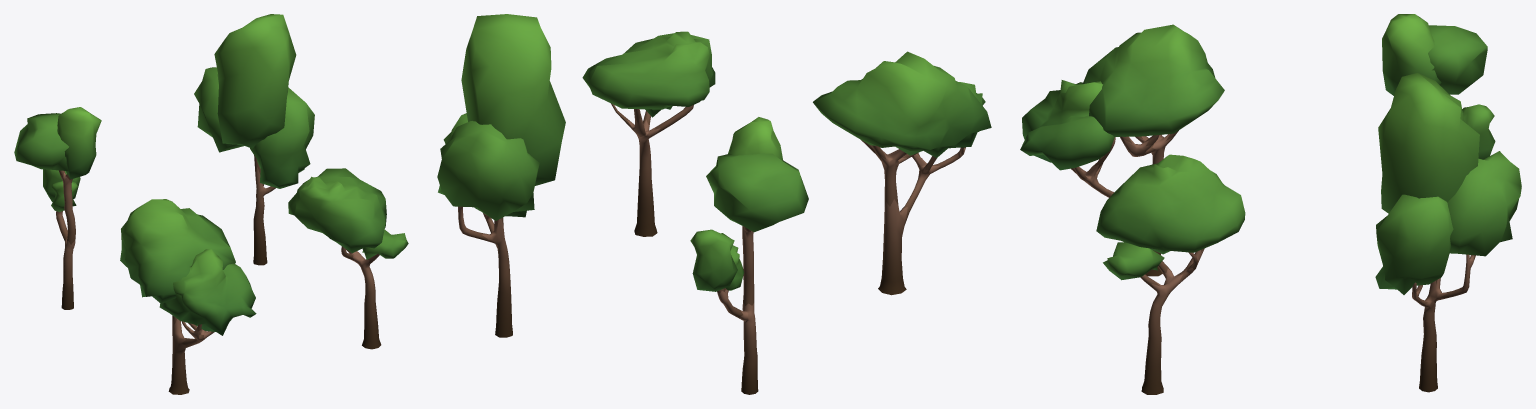
File: PlantModels.fbx
The picture shows the model from 3 angles, left to right: view 1: azimuth 30°, elevation 25°; view 2: azimuth 150°, elevation 25°; view 3: azimuth 270°, elevation 25°; orthographic projection. The views are drawn at different scales.
Parts seen in each view (by area): view 1: Gum4, Gum1, Gum3, Gum2; view 2: Gum4, Gum1, Gum2, Gum3; view 3: Gum4, Gum1, Gum3, Gum2.
Part boxes in pixels (x1,y1,x2,y2): Gum4: (194,14,314,265); Gum1: (120,199,256,394); Gum3: (288,168,408,349); Gum2: (14,107,101,309); Gum4: (437,14,565,337); Gum1: (813,51,991,295); Gum2: (690,117,808,394); Gum3: (582,31,715,236); Gum4: (1375,73,1521,392); Gum1: (1020,24,1224,276); Gum3: (1096,154,1245,394); Gum2: (1382,14,1495,159).
Bounding box in the file's own units: 307 × 247 × 364.
